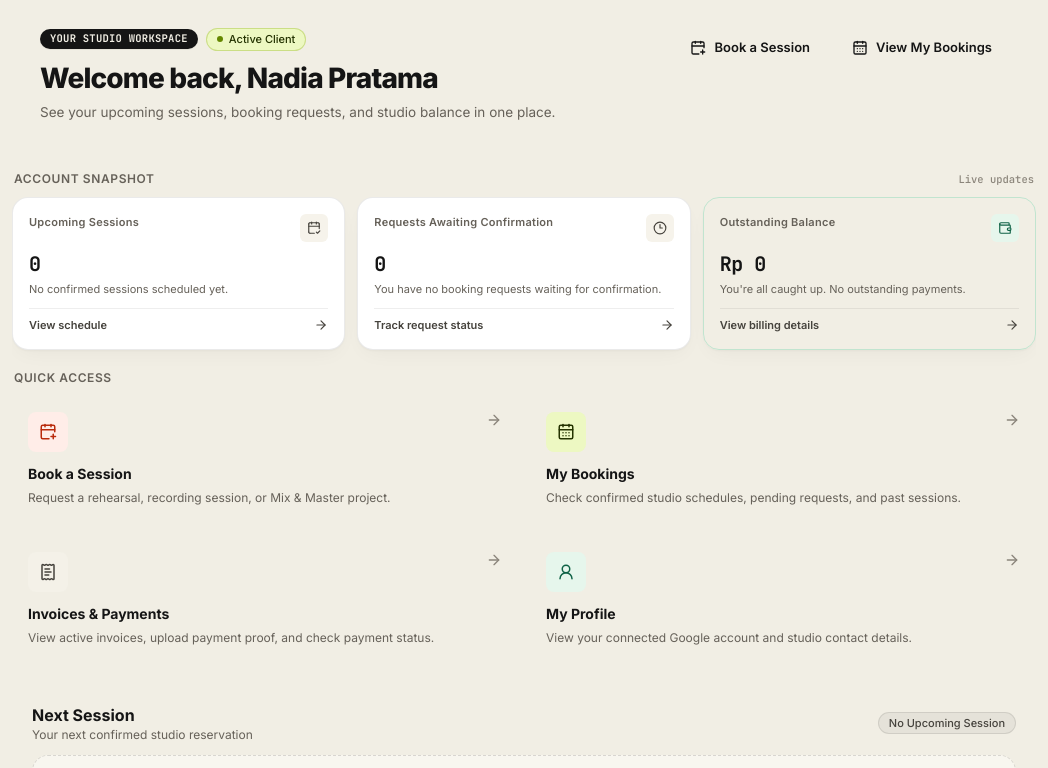
Client Portal Overview — Account Snapshot, Real Billing, Next Session, Activity & Navigation › navigates cleanly from all three Account Snapshot cards and all four Quick Access cards without nested links
Later steps or results of the test are not shown.
Click the link with test id "client-metric-upcoming-sessions": coordinates (84, 222) [12, 197, 345, 350]
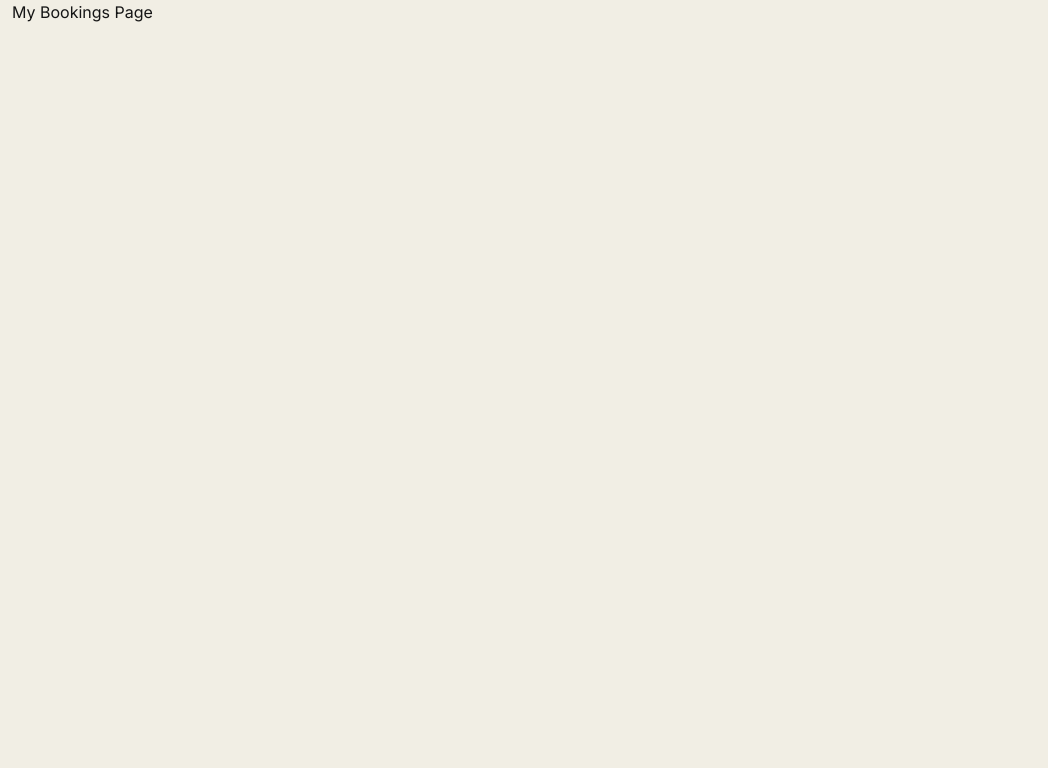
Check: the text "My Bookings Page" is shown, box [12, 2, 153, 22]
